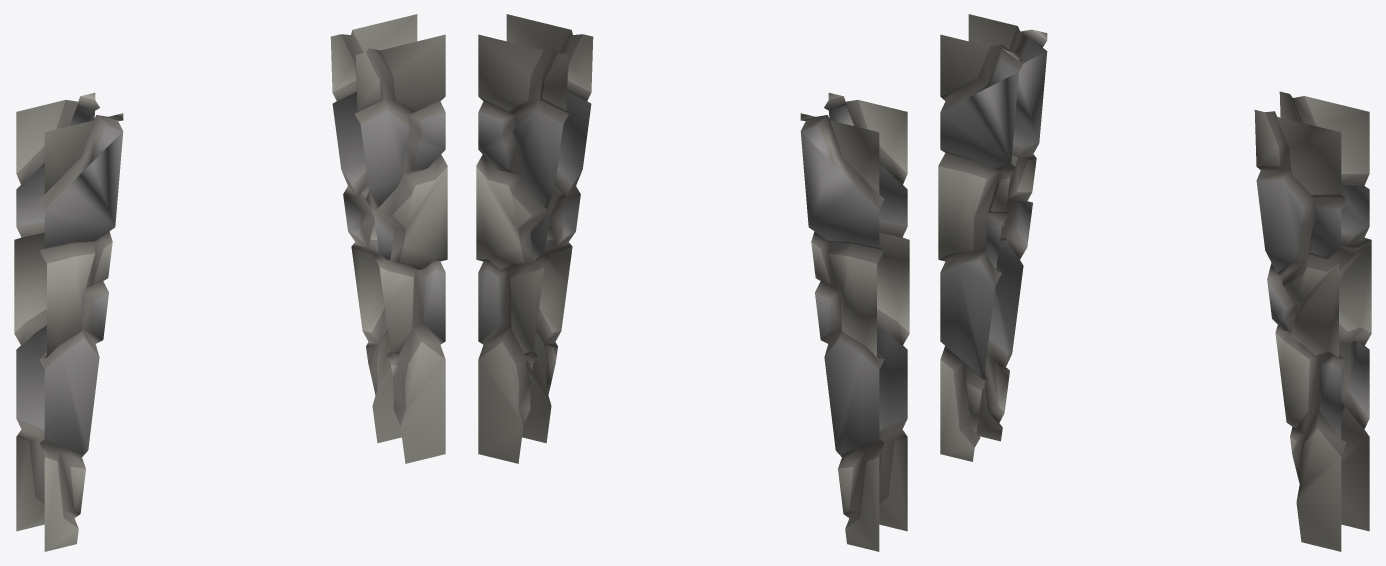
The model's file is rpgpp_ag_wall_03_3x3_door_b.fbx.
3 views of the same model, side by side, from view 1: azimuth 30°, elevation 25°; view 2: azimuth 150°, elevation 25°; view 3: azimuth 330°, elevation 25° (orthographic).
Visible parts, largest first — view 1: rpgpp_ag_wall_03_3x3_door_b; view 2: rpgpp_ag_wall_03_3x3_door_b; view 3: rpgpp_ag_wall_03_3x3_door_b.
Part boxes in pixels (x1,y1,x2,y2): rpgpp_ag_wall_03_3x3_door_b: (14,14,447,551); rpgpp_ag_wall_03_3x3_door_b: (476,14,909,551); rpgpp_ag_wall_03_3x3_door_b: (938,14,1371,551).
Bounding box in the file's own units: 3 × 3 × 0.4237.
